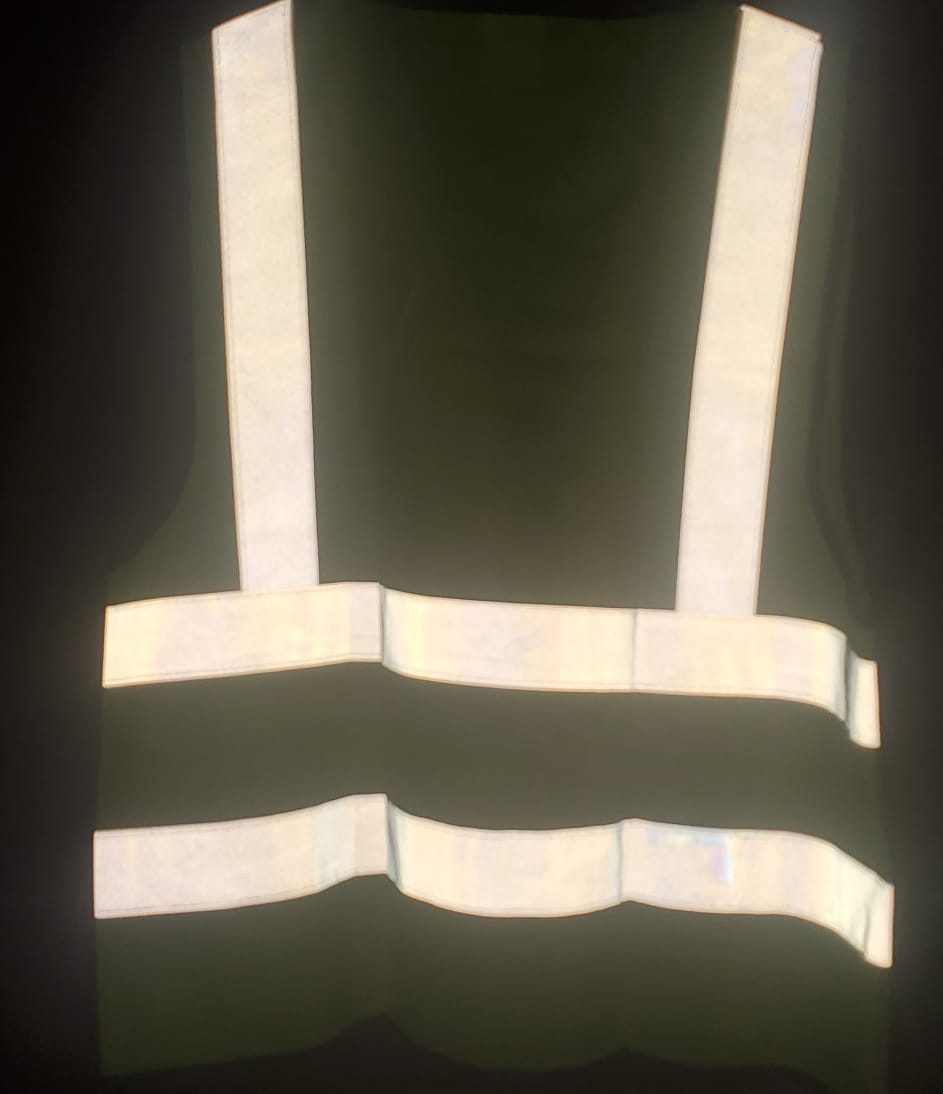vest: (95, 0, 943, 1078)
